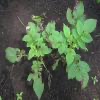Potato leaf late blight: (72, 0, 84, 20), (48, 34, 60, 49)
